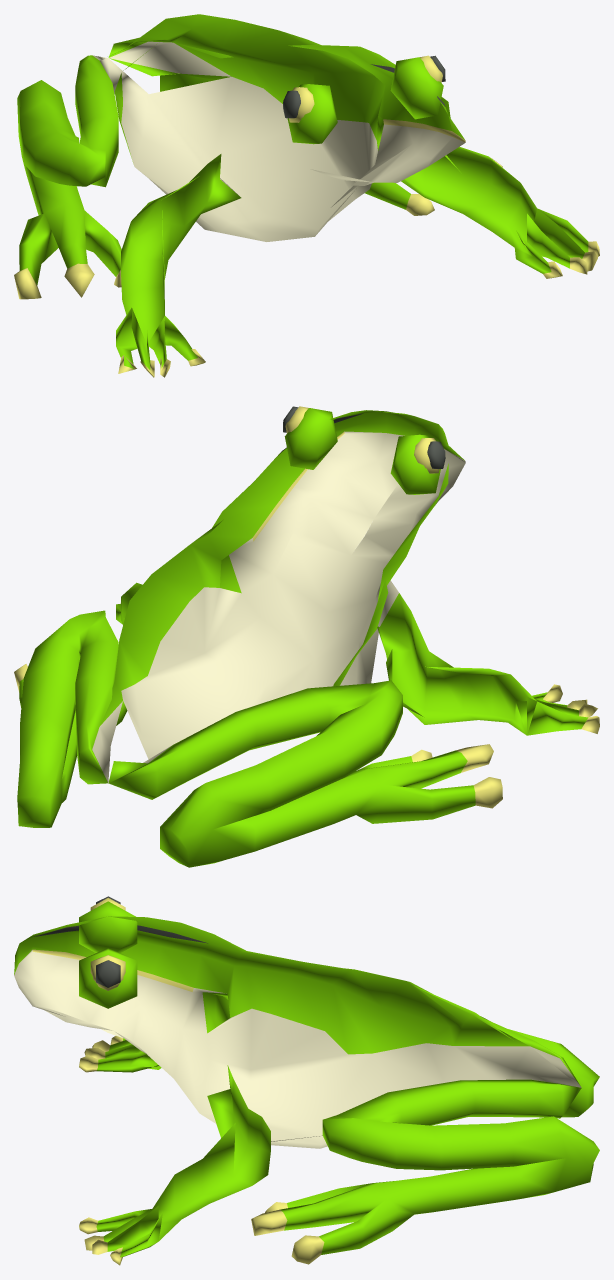
Rendered from 1377d2df-5207-4efd-b32b-a7ef94299b73.glb.
3 views of the same model, one above another, from view 1: azimuth 30°, elevation 25°; view 2: azimuth 150°, elevation 25°; view 3: azimuth 270°, elevation 25° (orthographic). The views are drawn at different scales.
Visible parts, largest first — view 1: Null.1, Eyes, Eyes_1, Eyes_2; view 2: Null.1, Eyes, Eyes_1; view 3: Null.1, Eyes, Eyes_2, Eyes_1.
Part boxes in pixels (left/top/right/bottom): Null.1: left=14, top=14, right=599, bottom=377; Eyes: left=287, top=57, right=443, bottom=144; Eyes_1: left=289, top=55, right=442, bottom=122; Eyes_2: left=283, top=55, right=445, bottom=118; Null.1: left=14, top=410, right=599, bottom=867; Eyes: left=284, top=408, right=440, bottom=494; Eyes_1: left=285, top=406, right=439, bottom=473; Null.1: left=14, top=916, right=599, bottom=1265; Eyes: left=79, top=901, right=137, bottom=1008; Eyes_2: left=96, top=896, right=120, bottom=987; Eyes_1: left=90, top=898, right=125, bottom=990.
Bounding box in the file's own units: 698 × 345 × 791.
